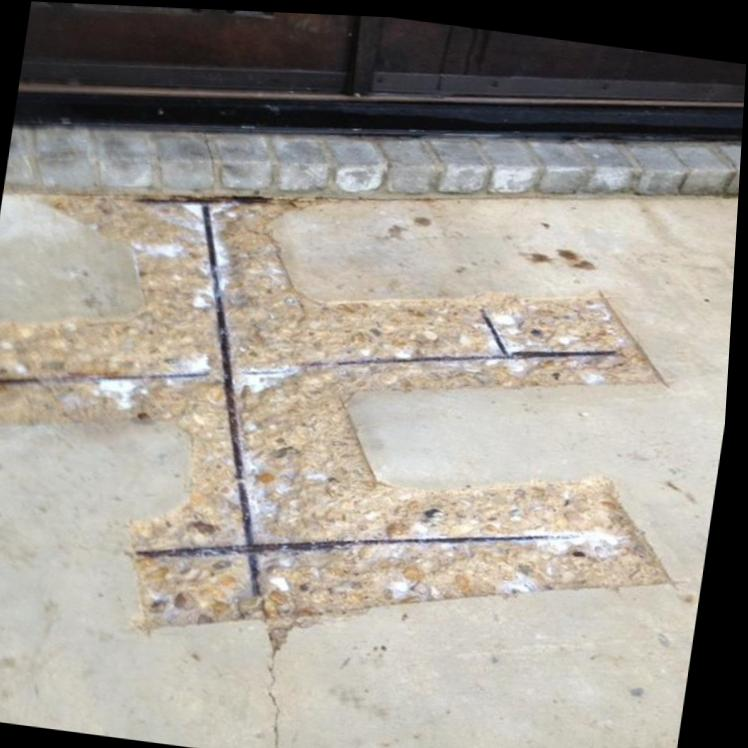damage: (0, 195, 675, 627)
